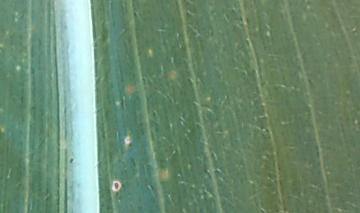tarspot: (106, 178, 127, 195), (123, 132, 133, 149), (67, 152, 78, 167)
